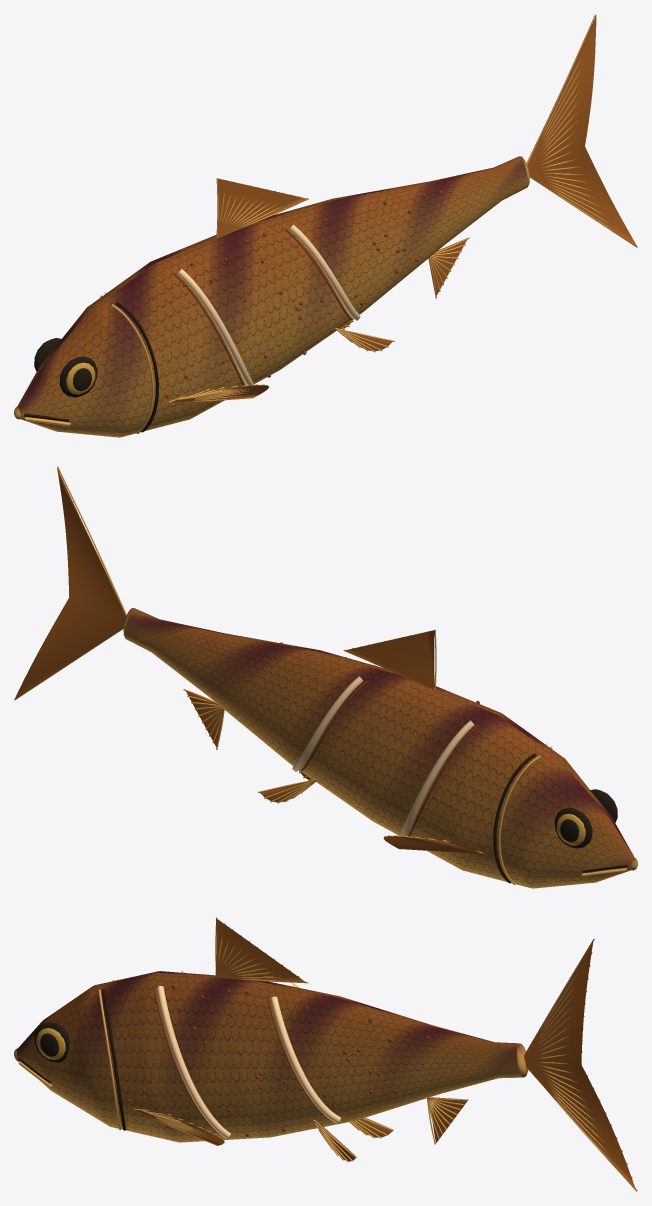
Rendered from seared_minnow.glb.
The picture shows the model from 3 angles, top to bottom: view 1: azimuth 30°, elevation 25°; view 2: azimuth 150°, elevation 25°; view 3: azimuth 330°, elevation 25°; orthographic projection.
Visible parts, largest first — view 1: scaled skin with continuous back and belly, ribbed fin membrane, fin rays and lip rim, mouth, gill creases and pupils, exposed cooked muscle, raised char plates; view 2: scaled skin with continuous back and belly, ribbed fin membrane, fin rays and lip rim, mouth, gill creases and pupils, exposed cooked muscle, raised char plates; view 3: scaled skin with continuous back and belly, ribbed fin membrane, fin rays and lip rim, exposed cooked muscle, mouth, gill creases and pupils, raised char plates, iris ring.
Boxes of the visible parts, x1,y1,x2,y2 form: scaled skin with continuous back and belly: (14, 156, 529, 437); ribbed fin membrane: (169, 15, 637, 402); fin rays and lip rim: (24, 14, 637, 433); mouth, gill creases and pupils: (24, 292, 158, 432); exposed cooked muscle: (177, 213, 360, 385); raised char plates: (165, 190, 442, 397); scaled skin with continuous back and belly: (123, 608, 637, 888); ribbed fin membrane: (14, 467, 482, 853); fin rays and lip rim: (14, 467, 626, 884); mouth, gill creases and pupils: (493, 743, 627, 883); exposed cooked muscle: (292, 665, 488, 836); raised char plates: (241, 636, 479, 836); scaled skin with continuous back and belly: (14, 971, 528, 1142); ribbed fin membrane: (133, 918, 637, 1191); fin rays and lip rim: (18, 917, 637, 1191); exposed cooked muscle: (156, 970, 340, 1138); mouth, gill creases and pupils: (18, 980, 126, 1130); raised char plates: (126, 985, 429, 1136); iris ring: (36, 1028, 65, 1059).
Bounding box in the file's own units: 0.2298 × 0.1073 × 0.0301.
Materials: 7 (1 with a texture image).
